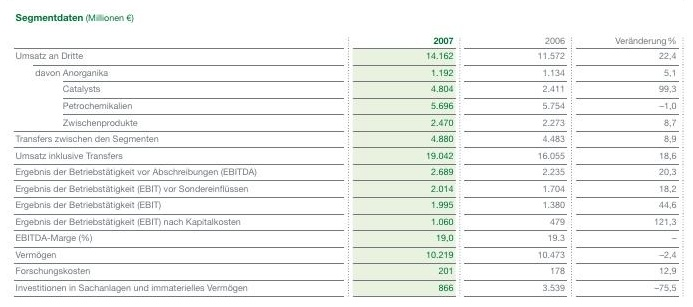table: (0, 0, 693, 307)
